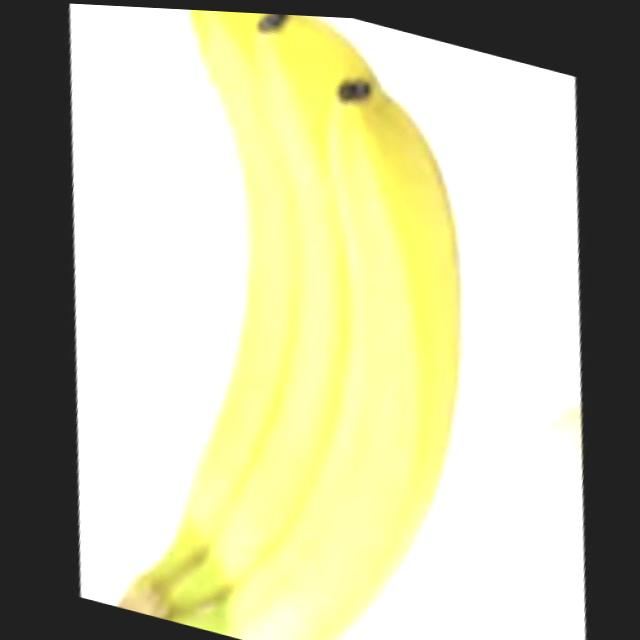Banana: (55, 2, 533, 640)
